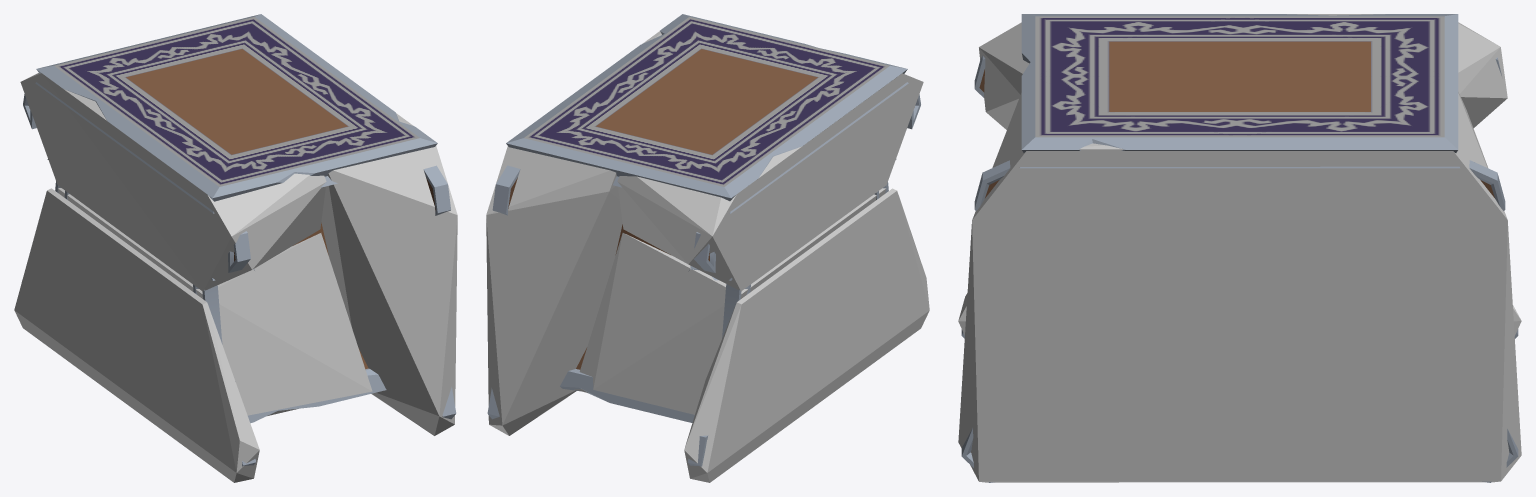
Rendered from SM_Prop_Drawer_01.fbx.
3 views of the same model, side by side, from view 1: azimuth 30°, elevation 25°; view 2: azimuth 150°, elevation 25°; view 3: azimuth 270°, elevation 25° (orthographic). The views are drawn at different scales.
Parts seen in each view (by area): view 1: SM_Prop_Drawer_01_ConvexHulls, SM_Prop_Drawer_01; view 2: SM_Prop_Drawer_01_ConvexHulls, SM_Prop_Drawer_01; view 3: SM_Prop_Drawer_01_ConvexHulls, SM_Prop_Drawer_01.
Part boxes in pixels (left/top/right/bottom): SM_Prop_Drawer_01_ConvexHulls: left=14, top=73, right=457, bottom=482; SM_Prop_Drawer_01: left=23, top=14, right=456, bottom=466; SM_Prop_Drawer_01_ConvexHulls: left=486, top=31, right=929, bottom=482; SM_Prop_Drawer_01: left=487, top=14, right=920, bottom=466; SM_Prop_Drawer_01_ConvexHulls: left=958, top=14, right=1521, bottom=482; SM_Prop_Drawer_01: left=961, top=14, right=1518, bottom=482.
Bounding box in the file's own units: 73.46 × 129 × 87.92.
2 materials, 1 textured.
